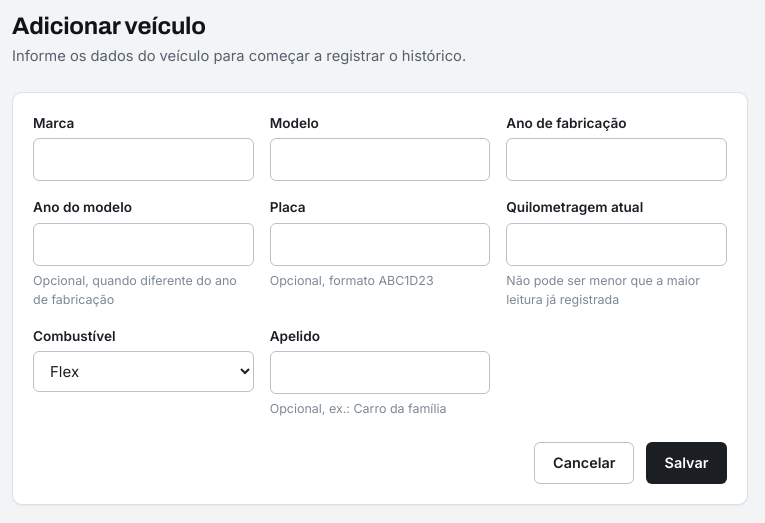
VehicleFormPage — creating › rejects a plate that does not match the Brazilian format
Type "Fiat" into the field labelled "Marca" at coordinates (143, 160), box x1=33 y1=138 x2=254 y2=181
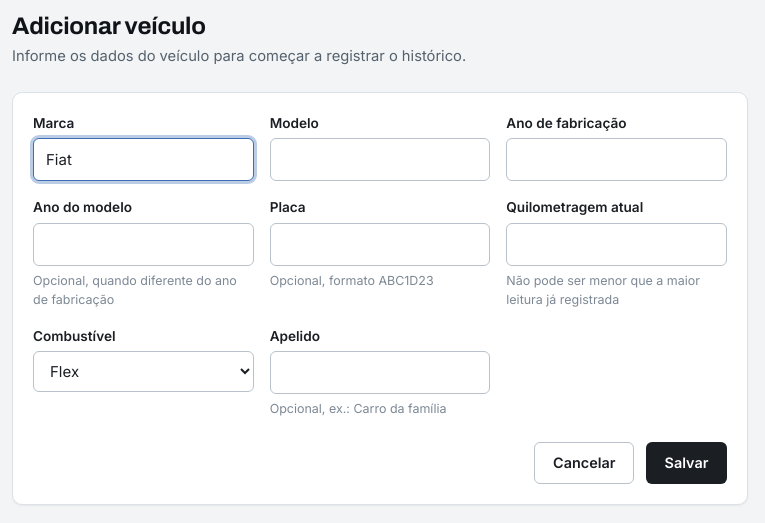
Type "Argo" into the field labelled "Modelo" at coordinates (380, 160), box x1=270 y1=138 x2=490 y2=181
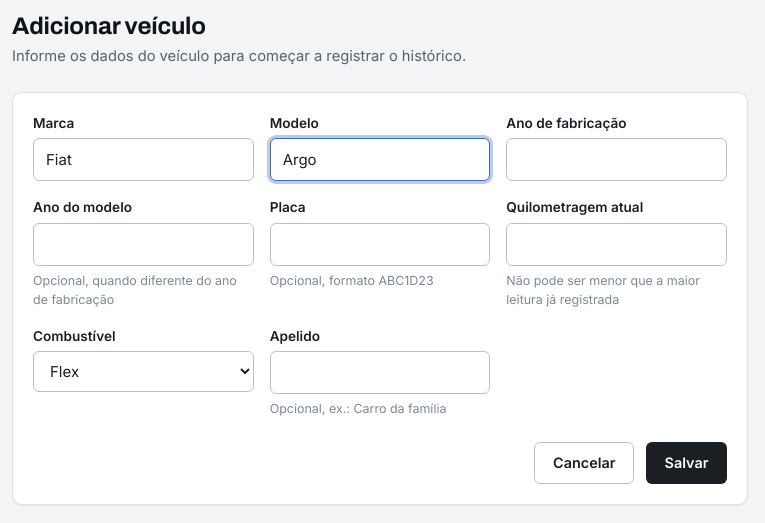
Type "2021" into the number field labelled "Ano de fabricação" at coordinates (617, 160), box x1=506 y1=138 x2=727 y2=181
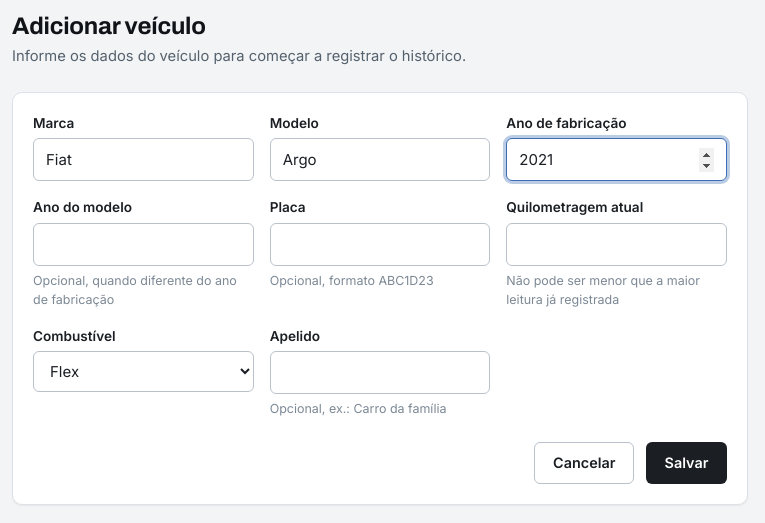
Type "45000" into the number field labelled "Quilometragem atual" at coordinates (617, 245), box x1=506 y1=223 x2=727 y2=266
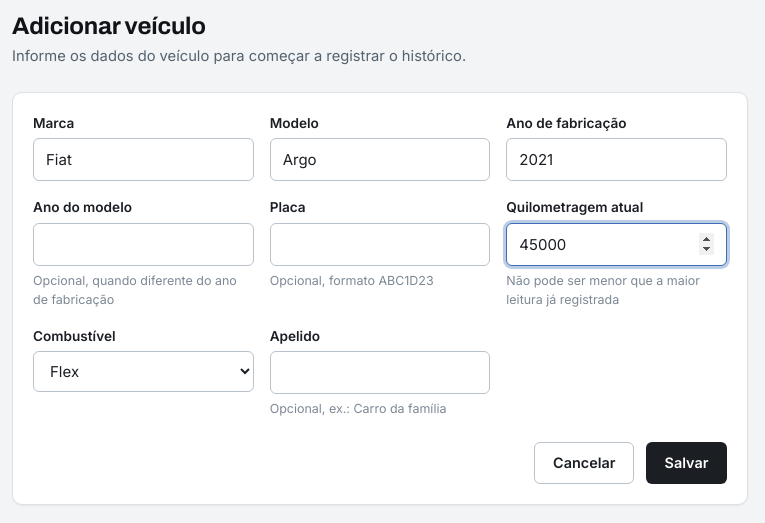
Type "AB123" into the field labelled "Placa" at coordinates (380, 245), box x1=270 y1=223 x2=490 y2=266
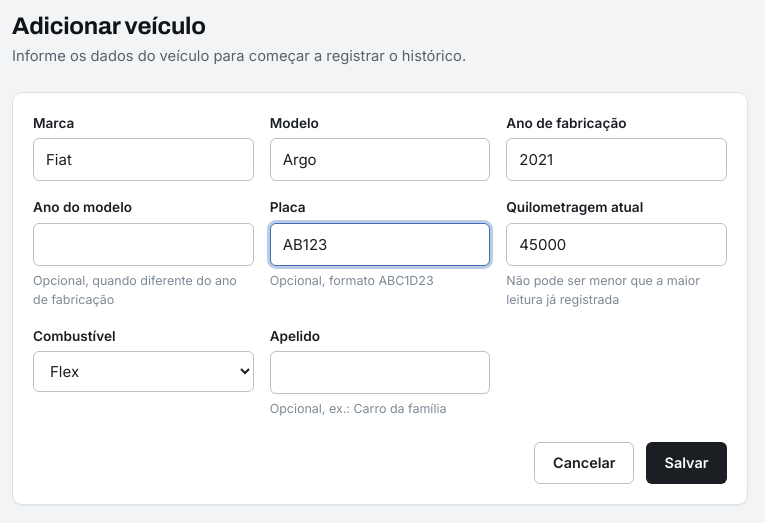
Click the button "Salvar" at coordinates (686, 463), box x1=646 y1=442 x2=727 y2=484
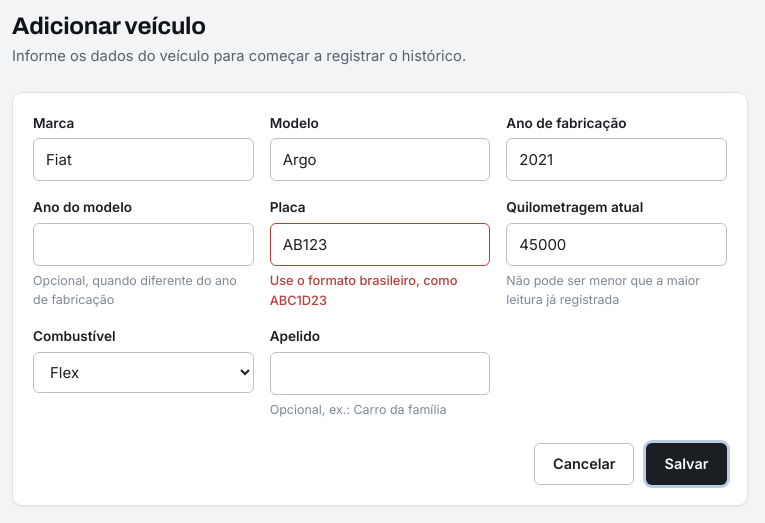
Result: the text "Use o formato brasileiro, como ABC1D23" is shown at x1=270 y1=271 x2=490 y2=310
